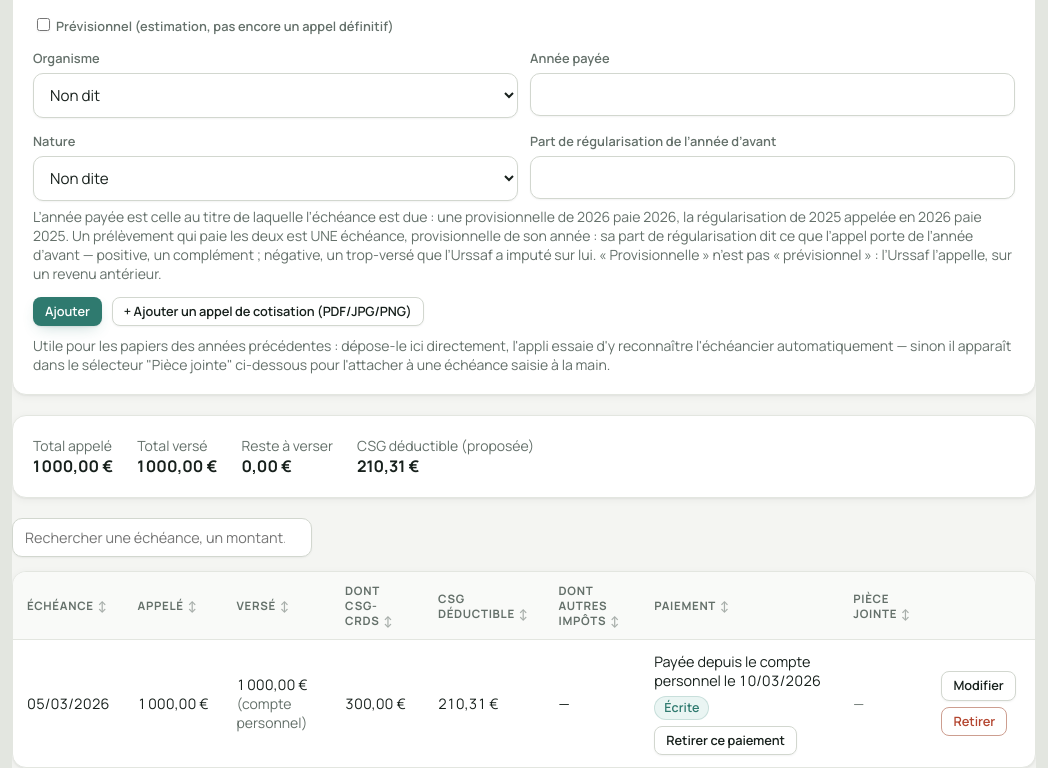
Test case: CotisationsTab — retirer un paiement personnel › confirme en nommant ce qu’on perd, retire par la base, et l’échéance redevient à déclarer
(page scrolled)
Click the button "Retirer ce paiement" at (726, 740), box [654,726,797,755]
(page scrolled)
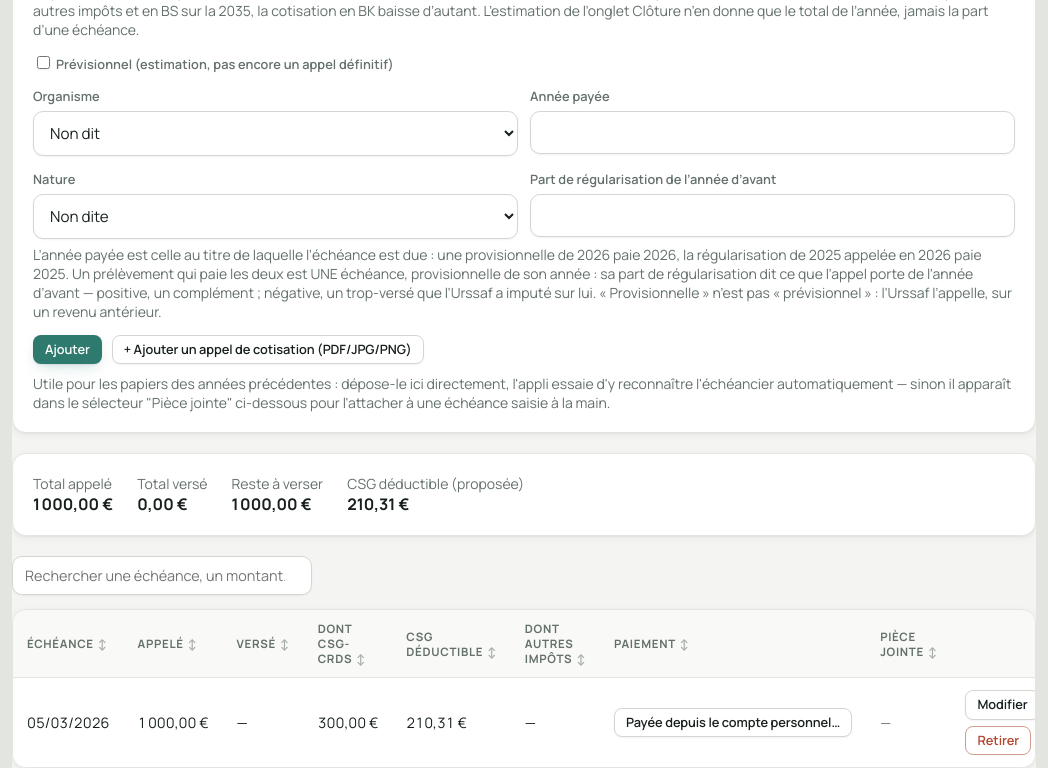
Now the button "Payée depuis le compte personnel…" is shown, box [614,708,852,737]
Now the text "Payée depuis le compte personnel le 10/03/2026" is gone
